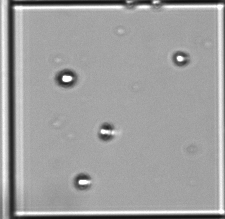Living Cell: (98, 123, 114, 141), (58, 71, 75, 86), (75, 173, 90, 190), (173, 51, 189, 66)
